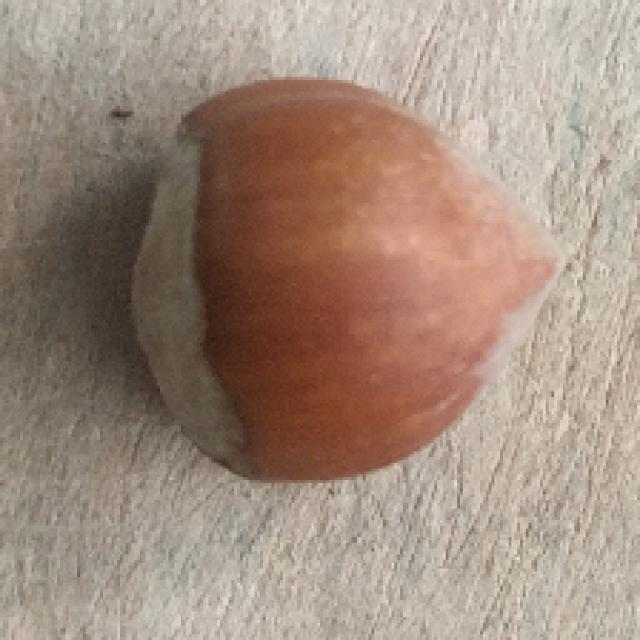qualityHazelnut: (125, 71, 556, 508)
